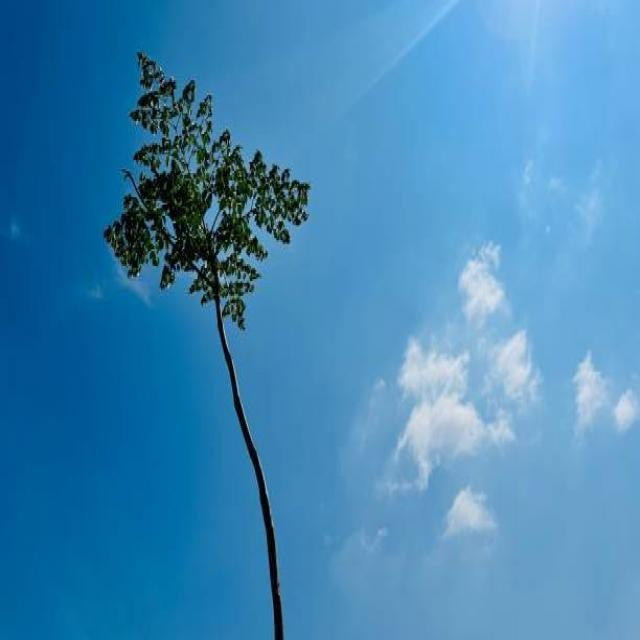tree: (101, 43, 311, 640)
